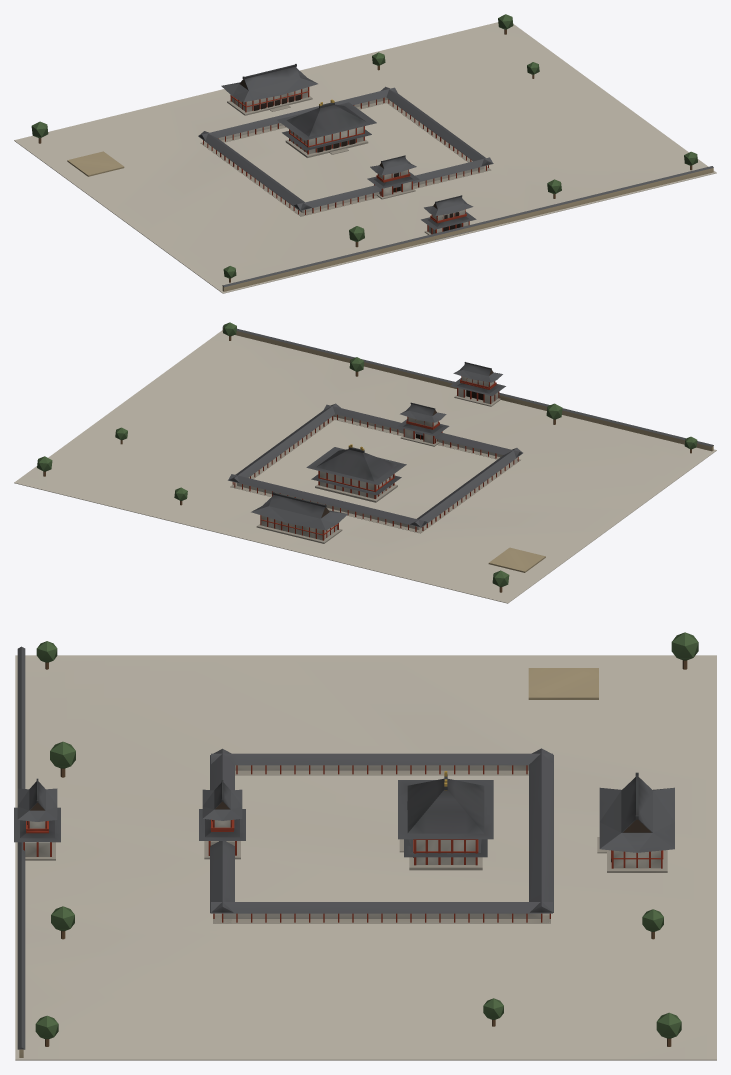
The model's file is kofukuji-720.glb.
3 renders of one model, top to bottom at view 1: azimuth 30°, elevation 25°; view 2: azimuth 150°, elevation 25°; view 3: azimuth 270°, elevation 25°, orthographic. The views are drawn at different scales.
Visible parts, largest first — view 1: p0_grounds, p1_halls, p2_roofs; view 2: p0_grounds, p1_halls, p2_roofs; view 3: p0_grounds, p1_halls, p2_roofs.
Boxes of the visible parts, bbox=[...] form: p0_grounds: bbox=[14, 22, 716, 293]; p1_halls: bbox=[198, 86, 493, 240]; p2_roofs: bbox=[31, 14, 697, 282]; p0_grounds: bbox=[14, 325, 716, 603]; p1_halls: bbox=[228, 376, 522, 543]; p2_roofs: bbox=[37, 322, 697, 592]; p0_grounds: bbox=[15, 646, 716, 1060]; p1_halls: bbox=[23, 748, 667, 923]; p2_roofs: bbox=[14, 632, 698, 1046].
Size of the model in its own units: 300 by 24.54 by 220.
